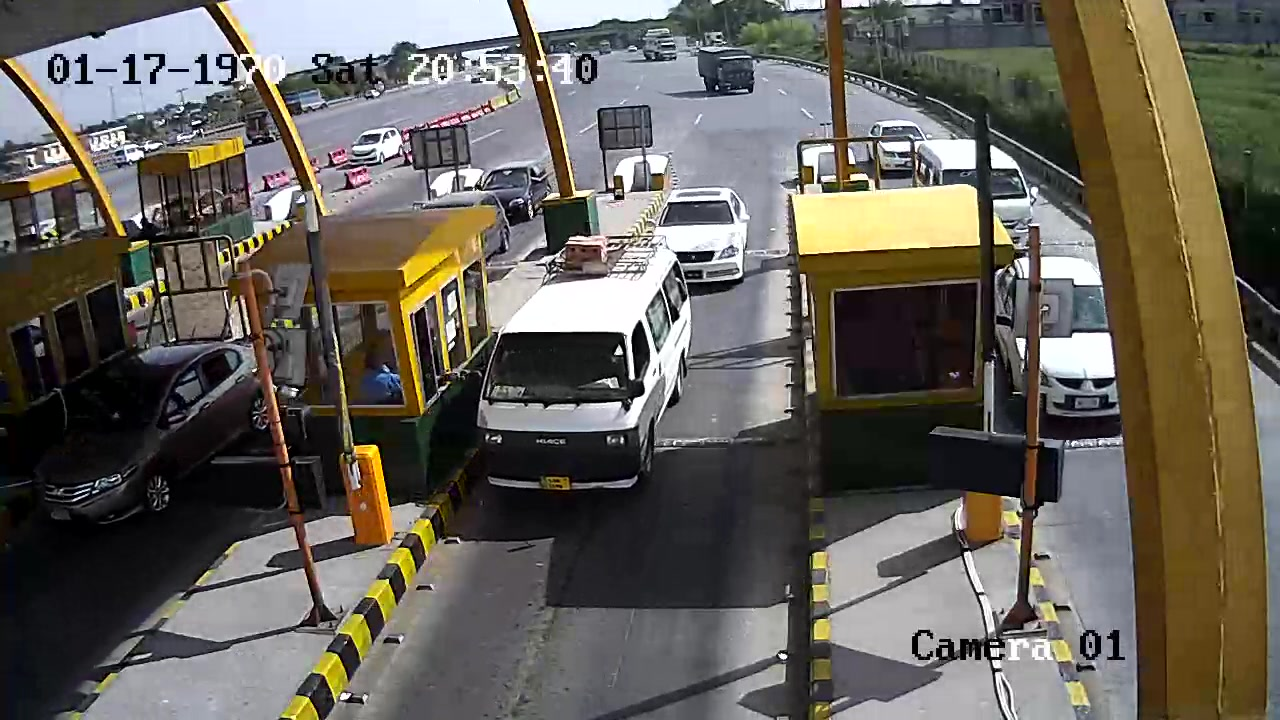F2: (471, 232, 697, 507)
